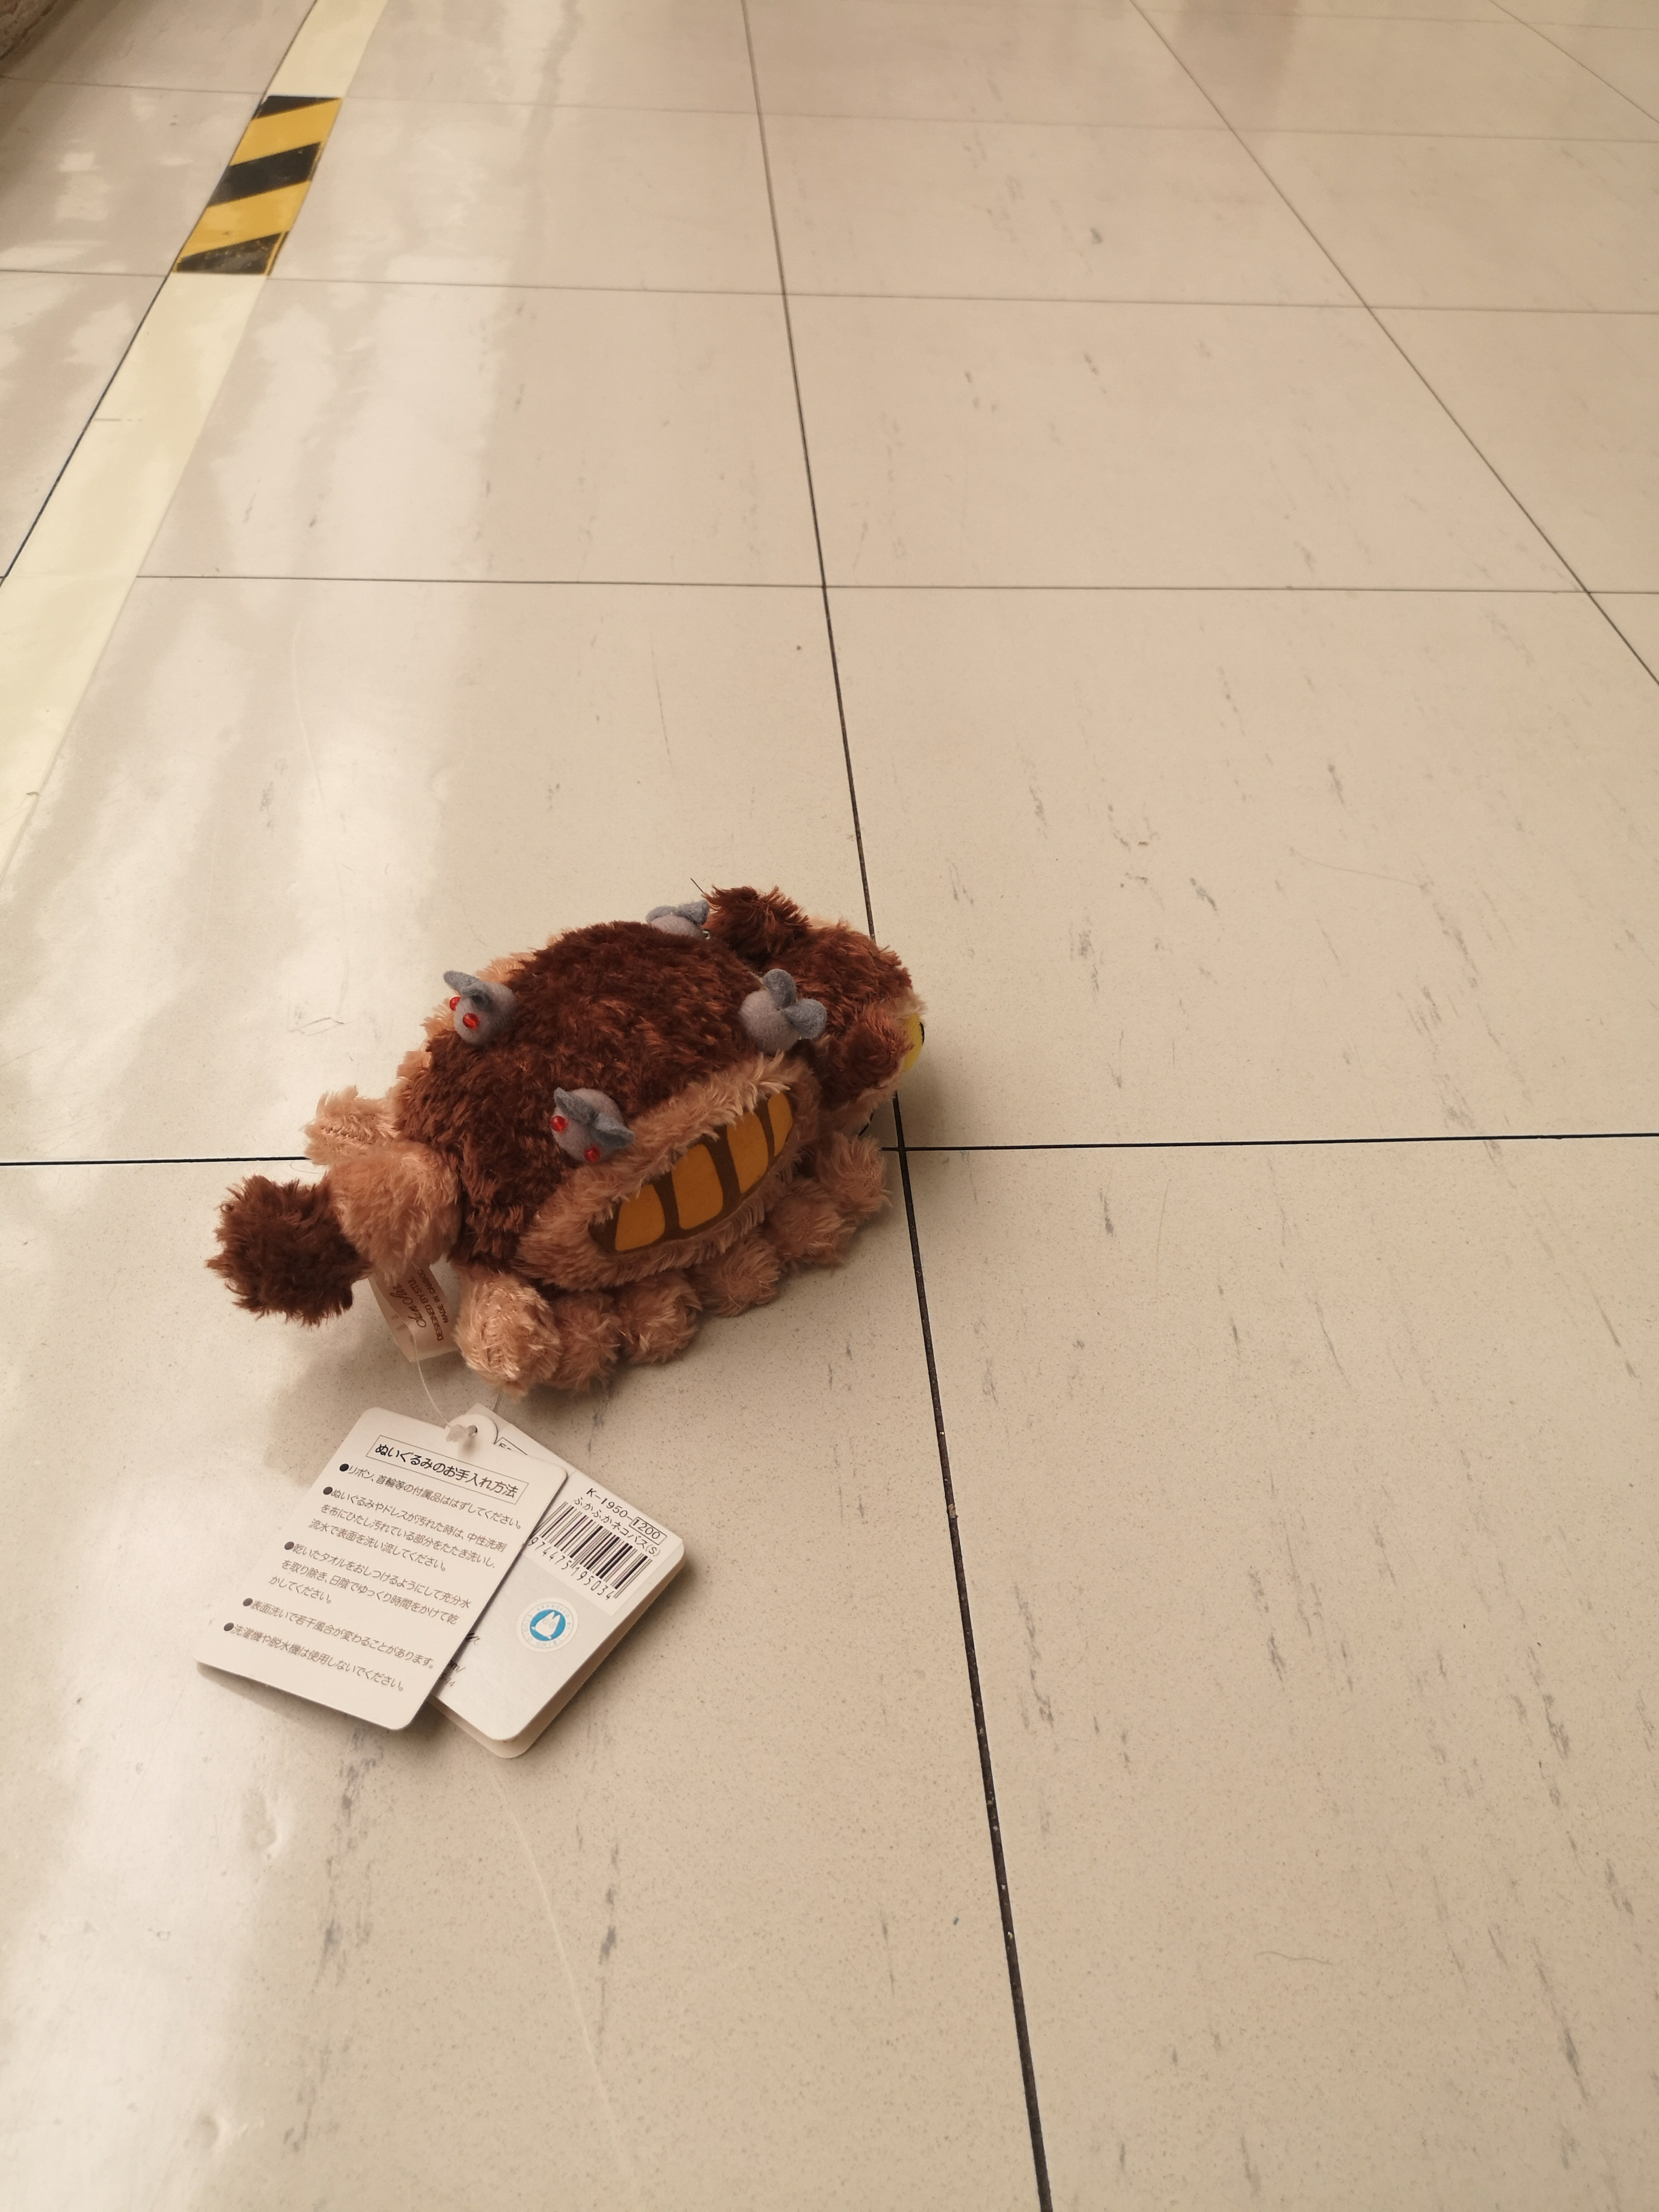nekobus: (200, 874, 929, 1406)
